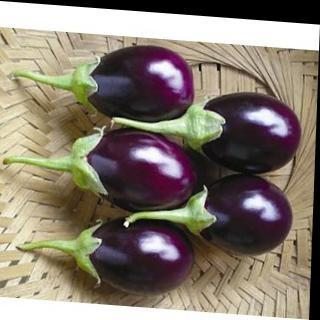eggplant: (125, 80, 303, 168), (7, 119, 200, 200), (19, 206, 194, 294), (8, 32, 192, 112), (130, 160, 292, 250)
